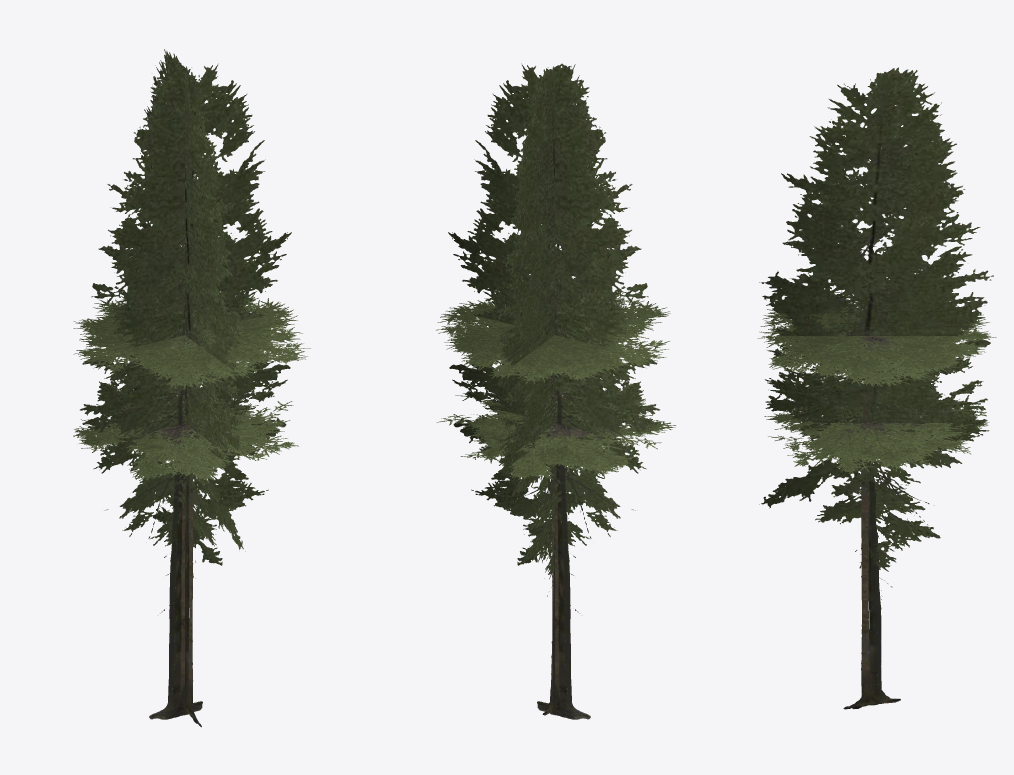
Rendered from fir.glb.
3 renders of one model, left to right at view 1: azimuth 30°, elevation 25°; view 2: azimuth 150°, elevation 25°; view 3: azimuth 270°, elevation 25°, orthographic.
Visible parts, largest first — view 1: fir_0, fir_1, fir_2; view 2: fir_0, fir_1, fir_2; view 3: fir_0, fir_1, fir_2.
Boxes of the visible parts, left/top/right/bottom form: fir_0: left=73, top=49, right=310, bottom=727; fir_1: left=73, top=245, right=298, bottom=723; fir_2: left=81, top=216, right=293, bottom=721; fir_0: left=436, top=63, right=670, bottom=718; fir_1: left=460, top=238, right=675, bottom=716; fir_2: left=436, top=214, right=661, bottom=719; fir_0: left=757, top=67, right=996, bottom=709; fir_1: left=764, top=237, right=989, bottom=709; fir_2: left=767, top=221, right=987, bottom=708.
Bounding box in the file's own units: 6.53 × 18.93 × 6.53.
6 materials, 6 textured.
